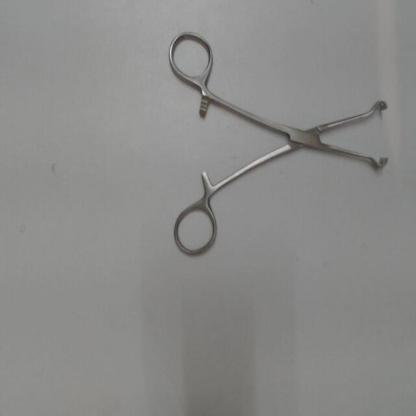Babcock Tissue Forceps: (165, 26, 391, 265)
